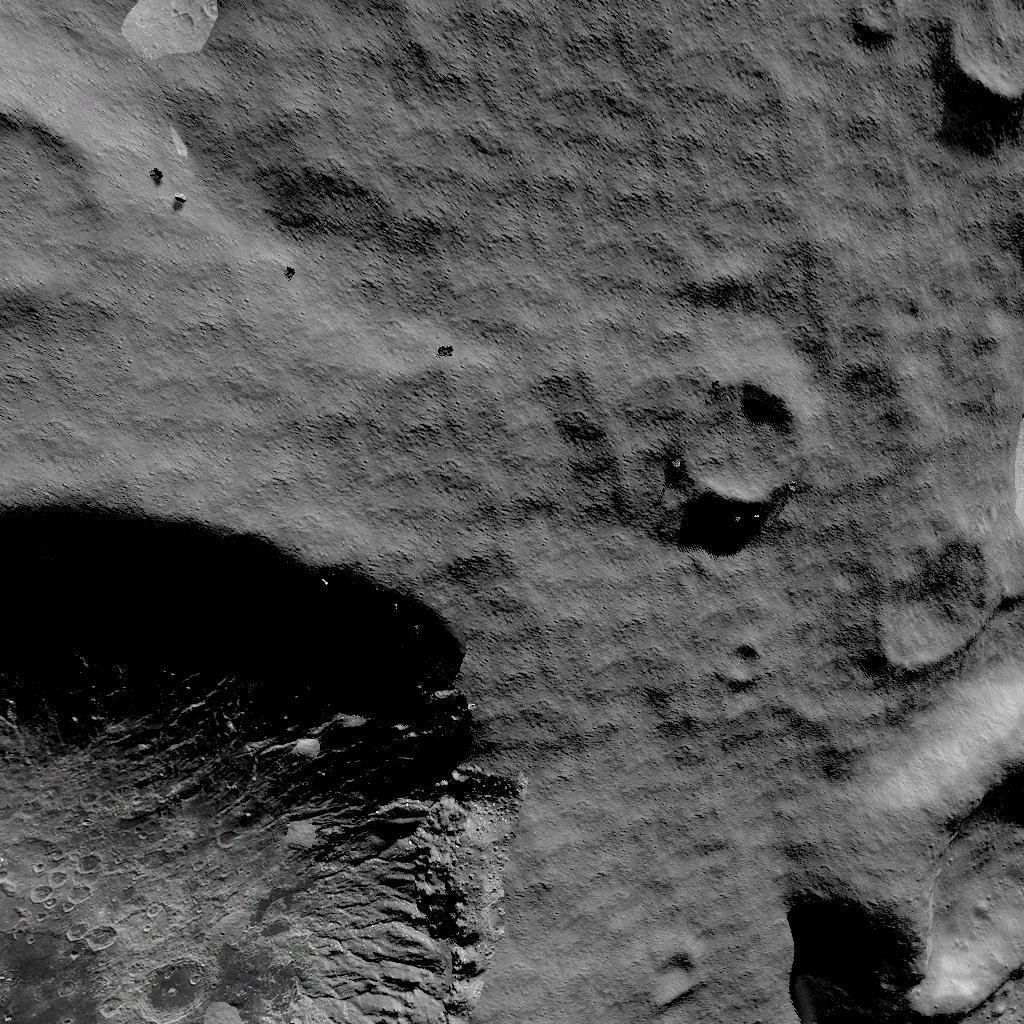Boulders: (107, 0, 227, 68)
Crater: (0, 494, 532, 1024), (751, 684, 1024, 1024), (664, 364, 822, 512), (858, 515, 998, 668), (923, 0, 1024, 126)
Plan surface: (317, 0, 916, 219), (0, 330, 388, 480)
